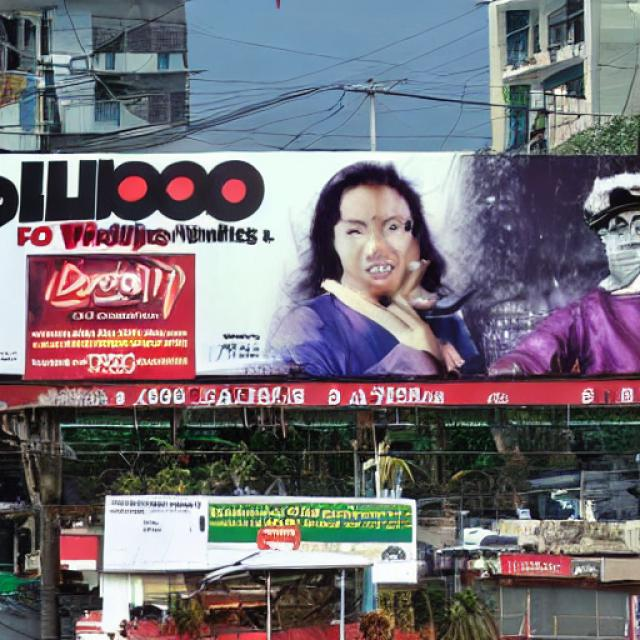Billboard: (0, 150, 640, 391)
